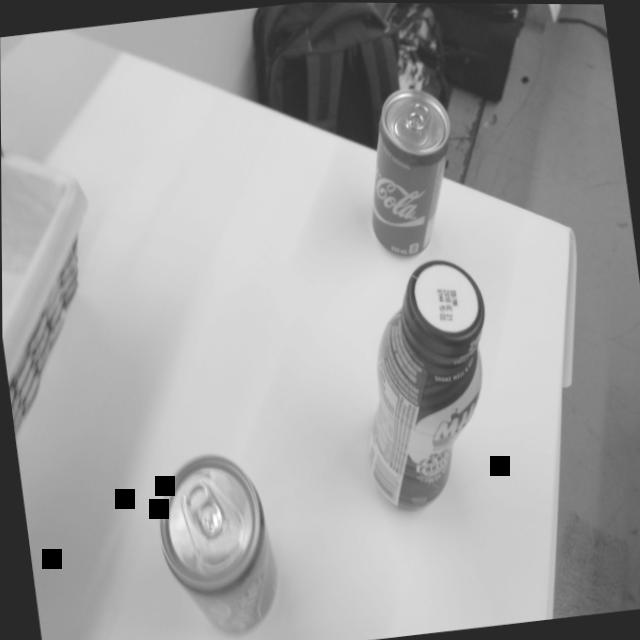chocolate_drink: (337, 247, 513, 518)
coke: (348, 79, 470, 265)
sprite: (144, 443, 292, 640)
